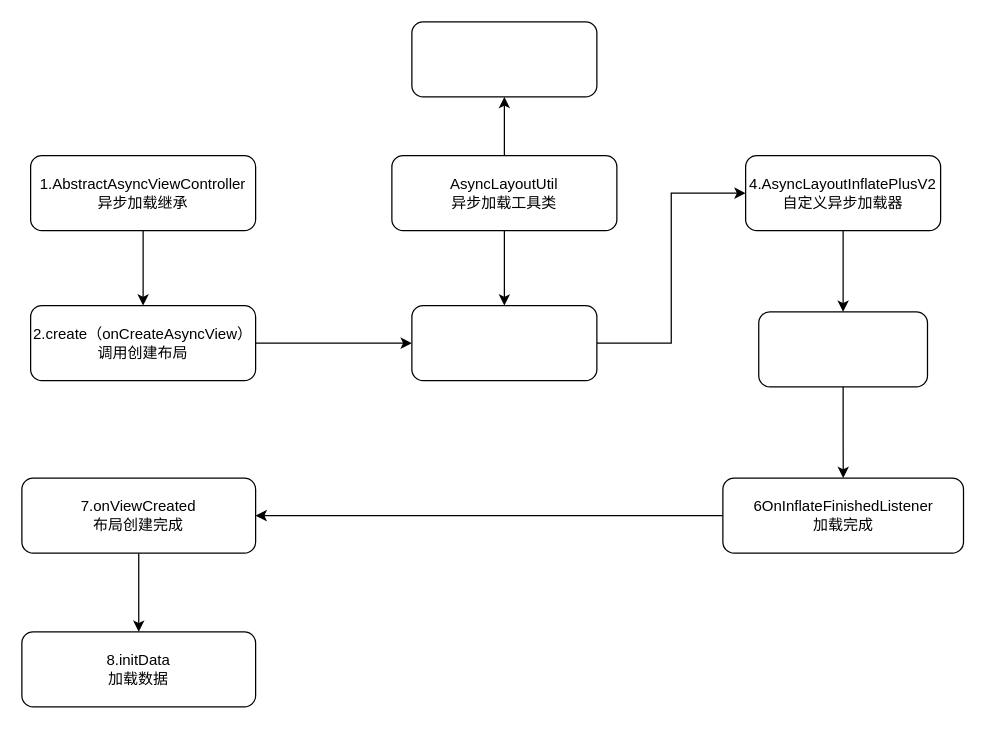
Some shapes in this 986 by 729 pixel diagram are drawn without their labels. Here are the shapes that lost their labels. From the top down, the box of each, then its label:
(411, 21, 597, 97): 9.监听onDestroy 移除加载器索引
(411, 304, 597, 381): 3.getAsyncLayoutInflater 创建加载器
(758, 311, 928, 387): 5.inflate 加载布局
